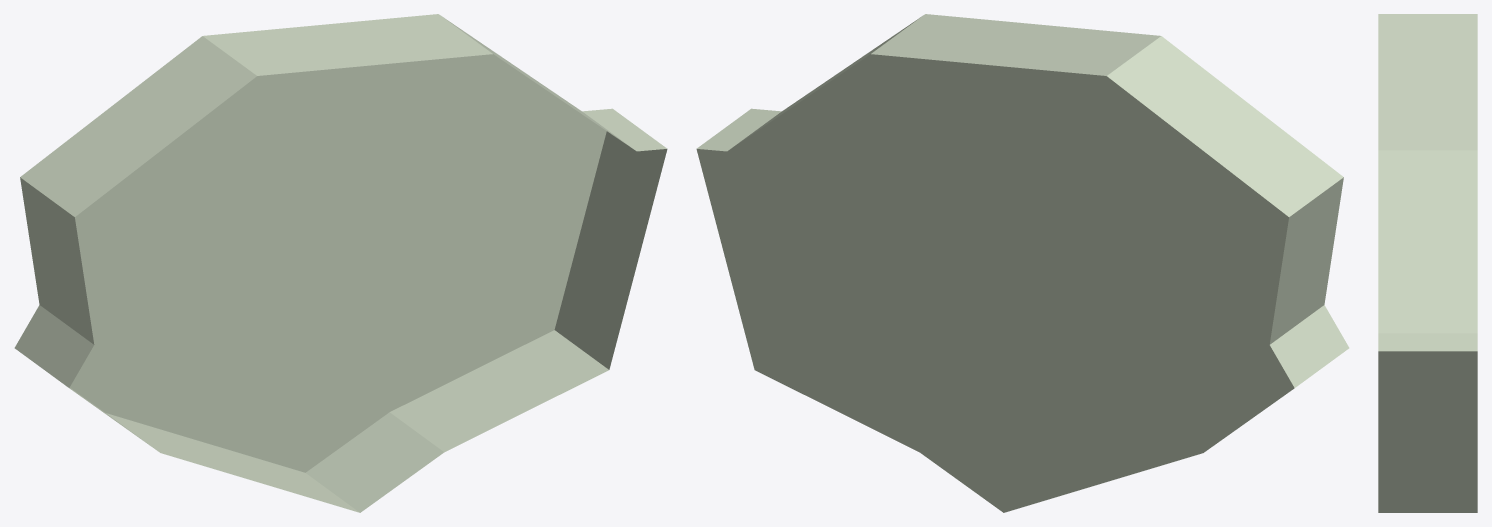
3 renders of one model, left to right at view 1: azimuth 30°, elevation 25°; view 2: azimuth 150°, elevation 25°; view 3: azimuth 270°, elevation 25°, orthographic. The views are drawn at different scales.
Visible parts, largest first — view 1: Object08; view 2: Object08; view 3: Object08.
Boxes of the visible parts, bbox=[...] form: Object08: bbox=[14, 14, 667, 512]; Object08: bbox=[696, 14, 1349, 512]; Object08: bbox=[1378, 14, 1477, 512].
Bounding box in the file's own units: 18115 × 13368 × 2874.
